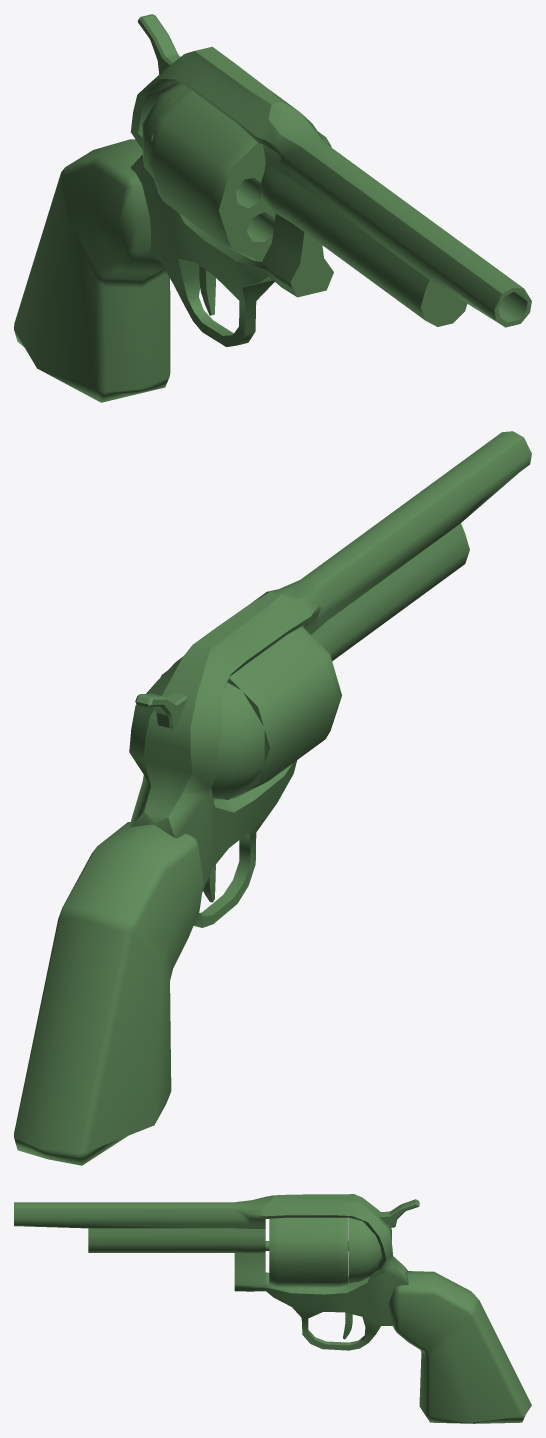
Rendered from Revolver.fbx.
3 views of the same model, one above another, from view 1: azimuth 30°, elevation 25°; view 2: azimuth 150°, elevation 25°; view 3: azimuth 270°, elevation 25° (orthographic). The views are drawn at different scales.
Parts seen in each view (by area): view 1: Revolver_base, Revolver_camber, Revolver_hammer, Revolver_trigger; view 2: Revolver_base, Revolver_camber, Revolver_hammer; view 3: Revolver_base, Revolver_camber, Revolver_hammer.
Boxes of the visible parts, x1,y1,x2,y2 form: Revolver_base: (14, 46, 531, 402); Revolver_camber: (147, 88, 331, 261); Revolver_hammer: (137, 14, 179, 74); Revolver_trigger: (199, 266, 215, 315); Revolver_base: (14, 431, 531, 1165); Revolver_camber: (160, 626, 341, 799); Revolver_hammer: (135, 692, 186, 728); Revolver_base: (14, 1194, 531, 1423); Revolver_camber: (269, 1217, 347, 1287); Revolver_hammer: (377, 1199, 419, 1227).
Bounding box in the file's own units: 0.0626 × 0.1814 × 0.3906.
